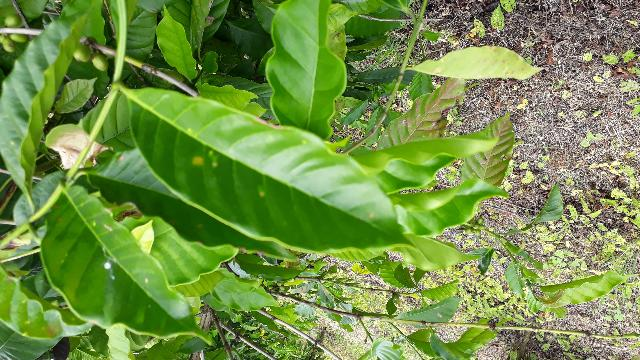rust_level_1: (124, 84, 425, 252)
